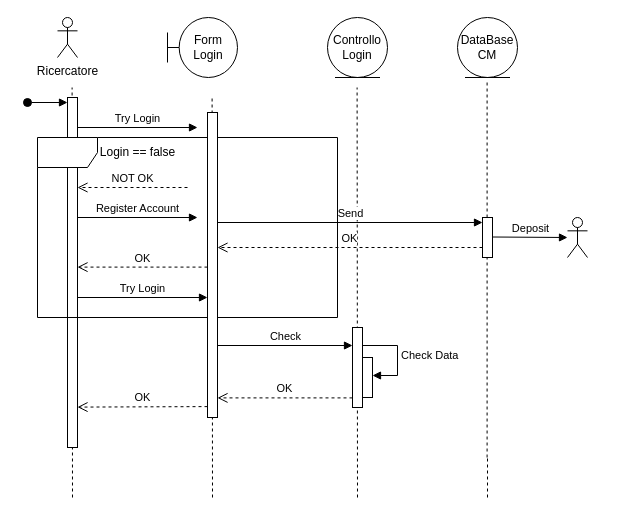
Some shapes in this 620 by 516 pixel diagram are drawn without their labels. Each missing label, with the box of its shape:
ALT: (36, 136, 338, 318)
Database: (566, 216, 588, 258)
